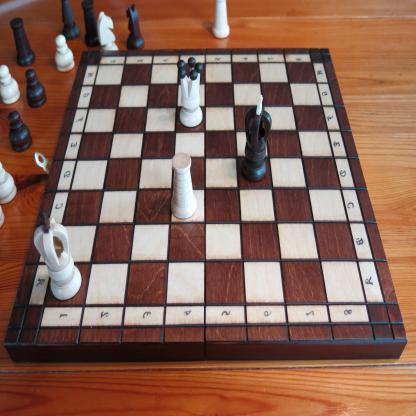black-bishop: (61, 0, 80, 41)
black-king: (240, 94, 272, 183)
black-knight: (97, 11, 119, 51), (126, 4, 144, 51)
black-pawn: (7, 110, 33, 153), (24, 68, 47, 109)
black-rook: (9, 17, 36, 67), (81, 0, 100, 48)
white-king: (32, 208, 82, 302)
white-pawn: (0, 64, 21, 106), (55, 34, 76, 73), (0, 161, 18, 205)
white-queen: (176, 56, 204, 128)
white-rook: (170, 152, 197, 219), (212, 0, 230, 39)
